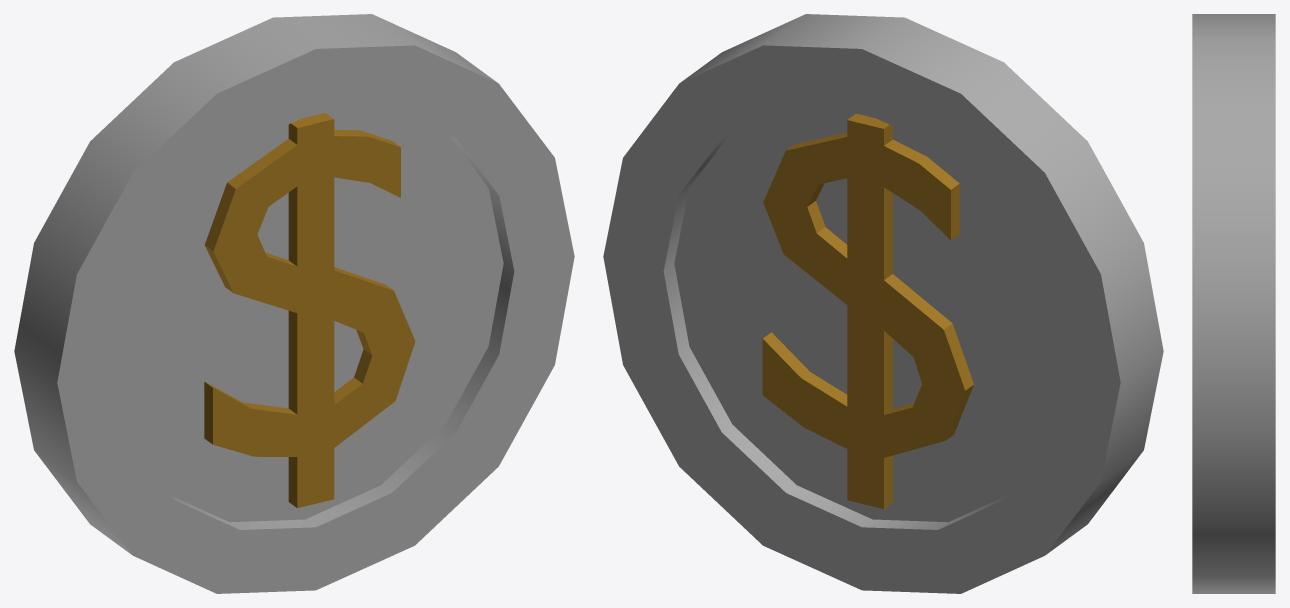
Rendered from Coin.fbx.
The picture shows the model from 3 angles, left to right: view 1: azimuth 30°, elevation 25°; view 2: azimuth 150°, elevation 25°; view 3: azimuth 270°, elevation 25°; orthographic projection. The views are drawn at different scales.
Visible parts, largest first — view 1: pCylinder2, polySurface4; view 2: pCylinder2, polySurface4; view 3: pCylinder2.
Part boxes in pixels (x1,y1,x2,y2): pCylinder2: [14, 14, 574, 593]; polySurface4: [204, 112, 415, 508]; pCylinder2: [603, 14, 1163, 593]; polySurface4: [762, 113, 973, 508]; pCylinder2: [1192, 14, 1275, 593].
Size of the model in its own units: 13.99 by 13.99 by 2.01.
